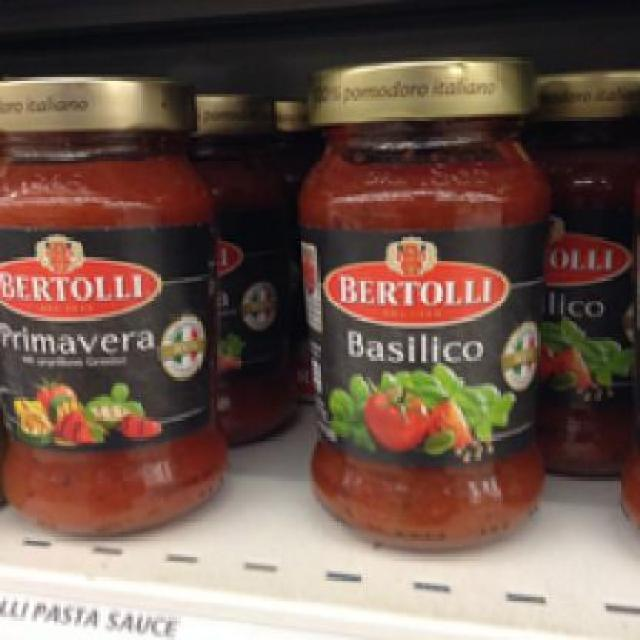Tomato Sauce: (288, 42, 548, 552), (0, 80, 220, 537)
